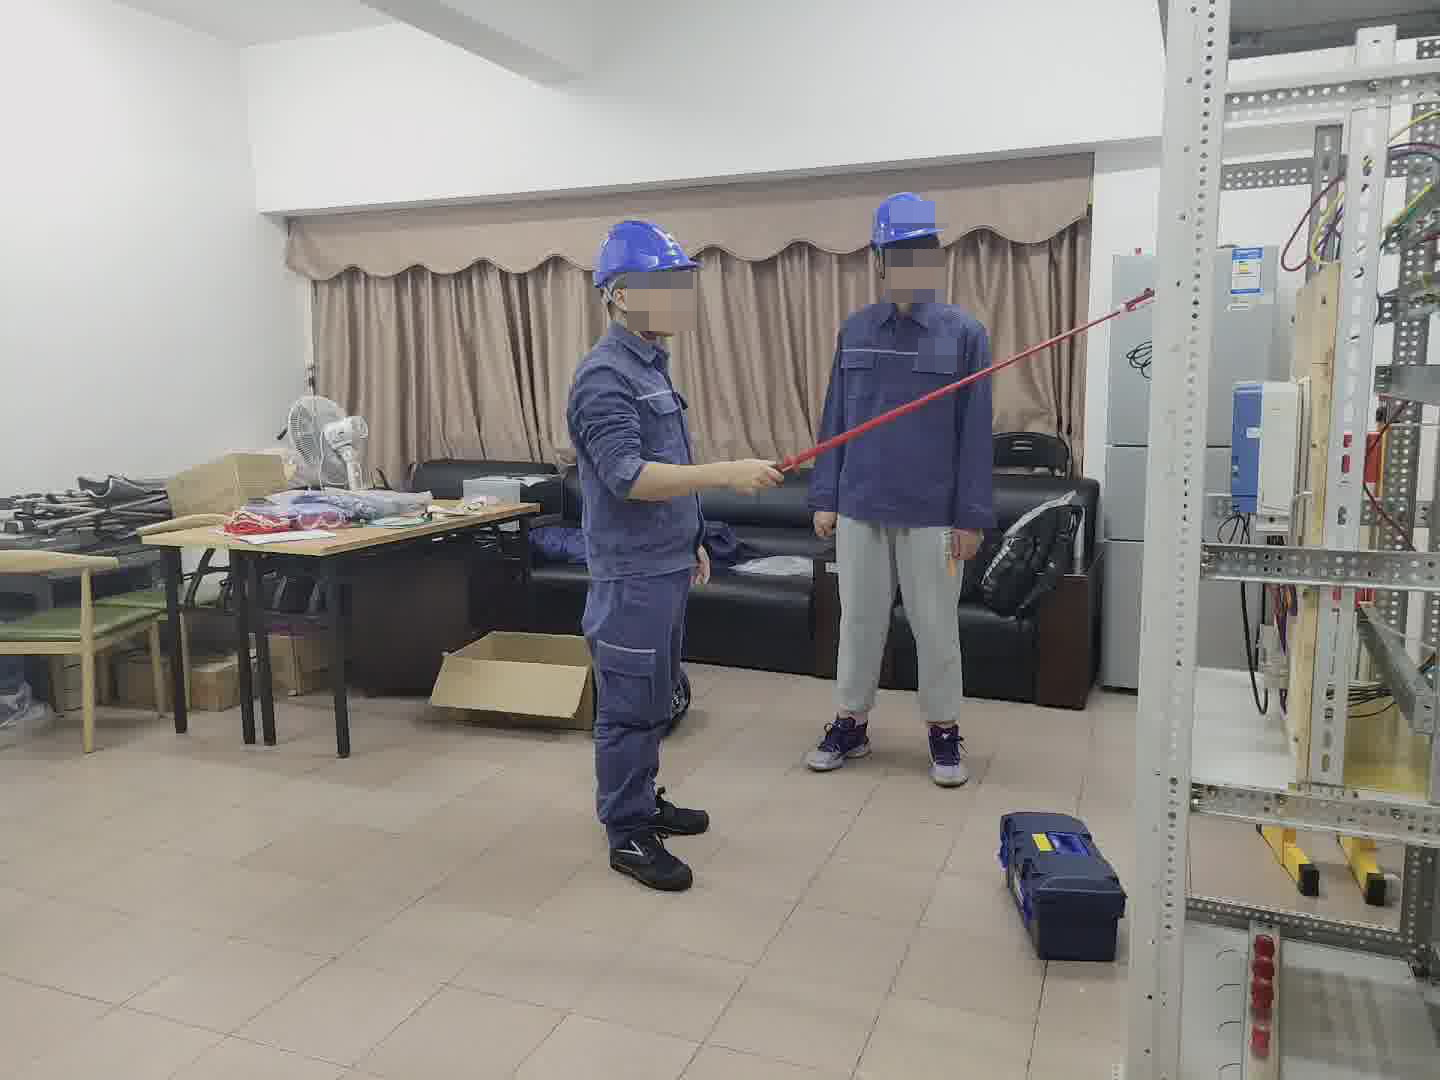downcloth: (831, 520, 966, 718)
downsuit: (581, 590, 696, 833)
halt: (587, 218, 700, 332), (869, 190, 948, 293)
hand: (733, 435, 785, 507), (953, 524, 984, 559), (806, 511, 836, 538)
inear: (602, 280, 656, 333)
person: (773, 187, 1016, 791), (555, 215, 720, 883)
testrod: (789, 274, 1147, 482)
upsuit: (802, 295, 997, 517), (563, 326, 700, 577)
wrongtop: (578, 426, 783, 505)
